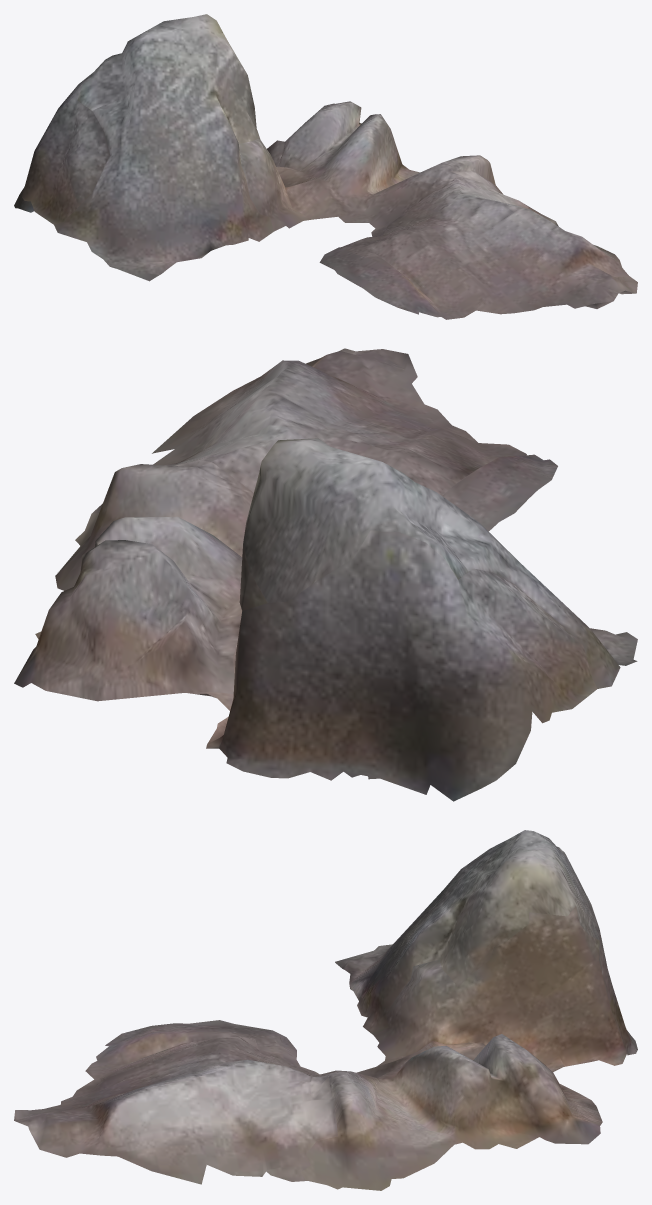
File: river-rock-a.lod0.glb
3 views of the same model, one above another, from view 1: azimuth 30°, elevation 25°; view 2: azimuth 150°, elevation 25°; view 3: azimuth 270°, elevation 25° (orthographic). The views are drawn at different scales.
Parts seen in each view (by area): view 1: Object_4; view 2: Object_4; view 3: Object_4.
Part boxes in pixels (x1,y1,x2,y2): Object_4: (14,14,637,319); Object_4: (14,348,637,801); Object_4: (14,830,637,1190).
Size of the model in its own units: 2.56 by 1.12 by 2.98.
Materials: 1 (1 with a texture image).
